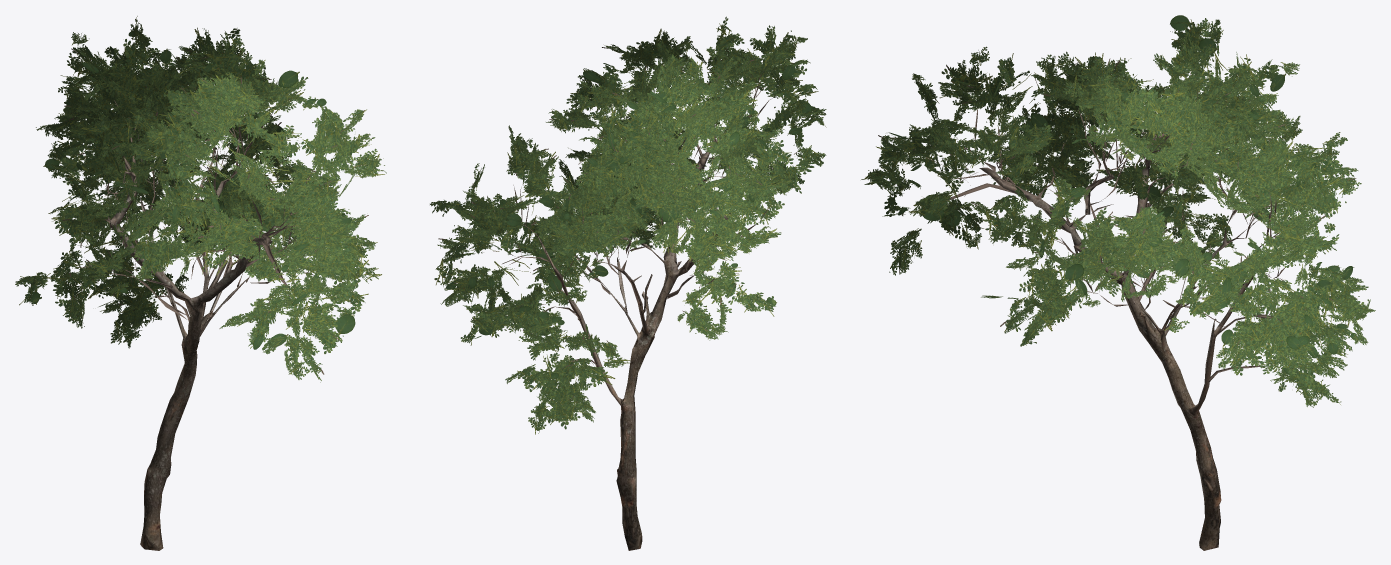
The picture shows the model from 3 angles, left to right: view 1: azimuth 30°, elevation 25°; view 2: azimuth 150°, elevation 25°; view 3: azimuth 270°, elevation 25°; orthographic projection. The views are drawn at different scales.
Parts seen in each view (by area): view 1: tree_small_02_lod1; view 2: tree_small_02_lod1; view 3: tree_small_02_lod1.
Part boxes in pixels (<box>): tree_small_02_lod1: <box>15,16,386,550</box>; tree_small_02_lod1: <box>430,16,826,550</box>; tree_small_02_lod1: <box>861,15,1375,550</box>.
Bounding box in the file's own units: 3 × 4.6 × 4.34.
3 materials, 3 textured.
